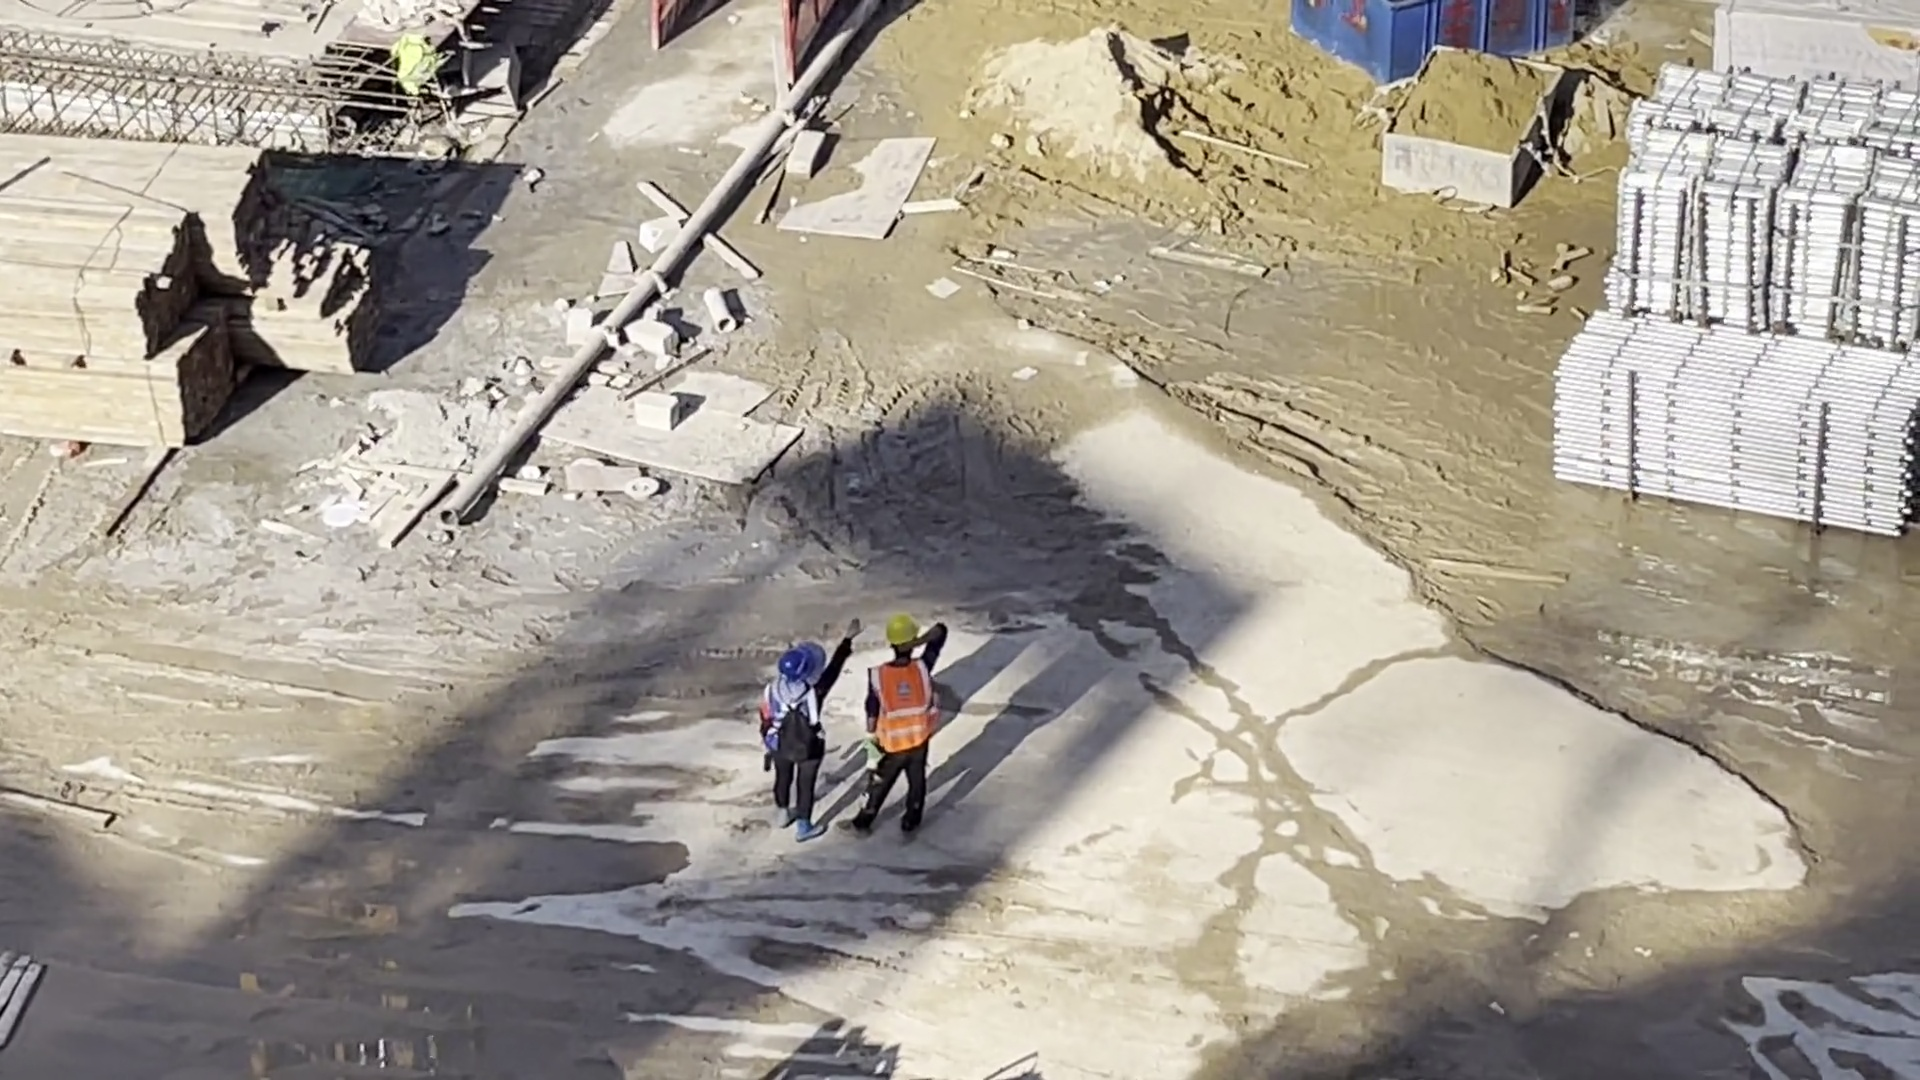fence: (655, 1, 839, 58)
helmet: (779, 648, 811, 681), (885, 616, 919, 645)
hopper: (1385, 46, 1566, 207), (1292, 3, 1578, 85)
person: (862, 622, 932, 841), (767, 645, 836, 842)
scaffold: (1619, 76, 1920, 356), (1555, 316, 1919, 546)
vest: (870, 664, 927, 750), (765, 685, 817, 737)
wood: (1, 137, 259, 433)
